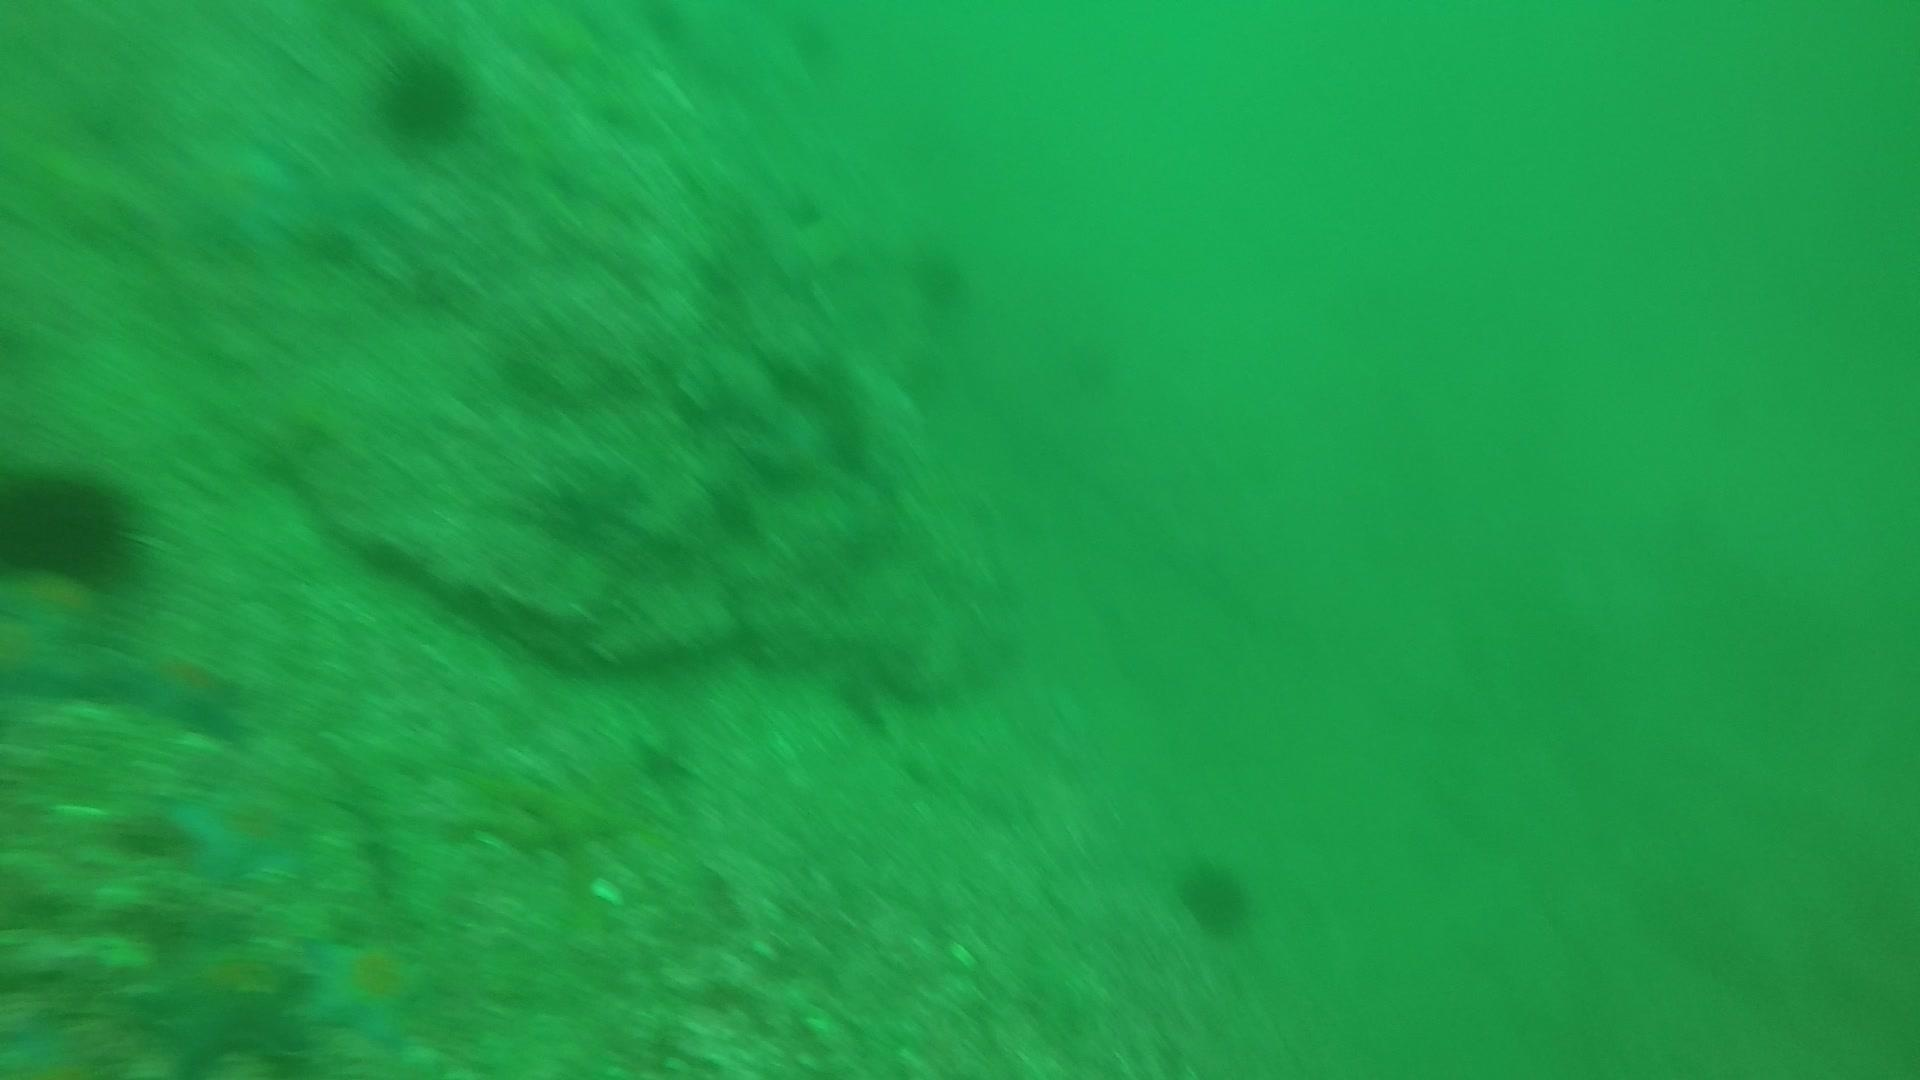echinus: (1, 458, 146, 589), (369, 46, 480, 148), (1174, 853, 1258, 939), (906, 239, 975, 313)
starfish: (120, 926, 320, 1073), (167, 137, 311, 265), (1, 588, 145, 716), (158, 777, 316, 889), (79, 640, 253, 740), (295, 926, 436, 1048)
